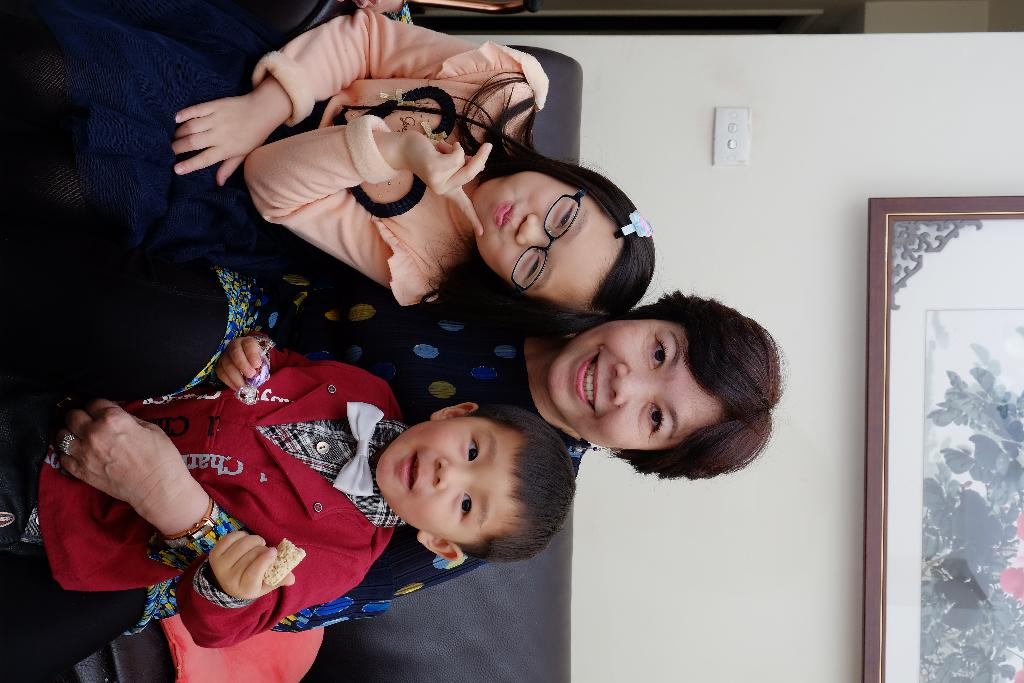Human_hand: (54, 399, 184, 509), (170, 90, 269, 187), (406, 131, 495, 238), (207, 527, 294, 598), (214, 336, 260, 392), (337, 0, 403, 19)
